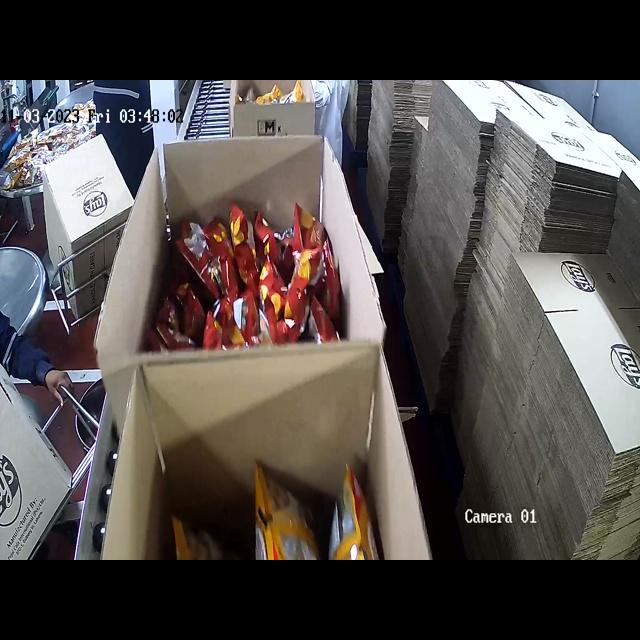cheese: (158, 485, 392, 560)
masala: (168, 232, 328, 345)
